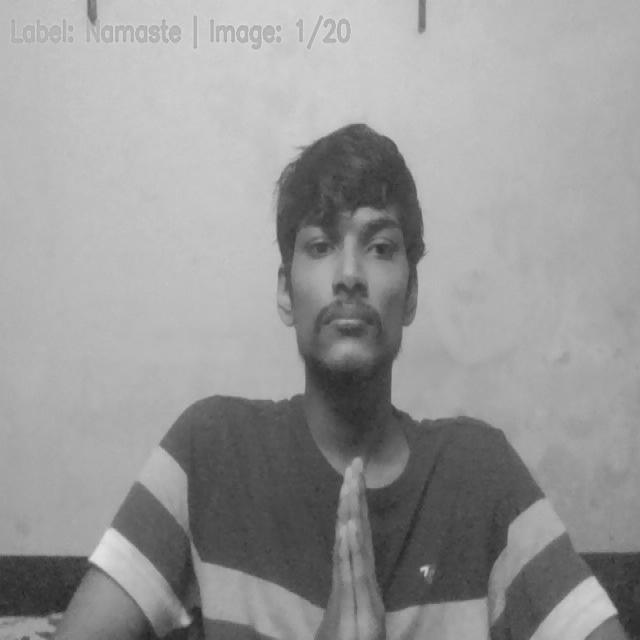Namaste: (306, 444, 394, 640)
